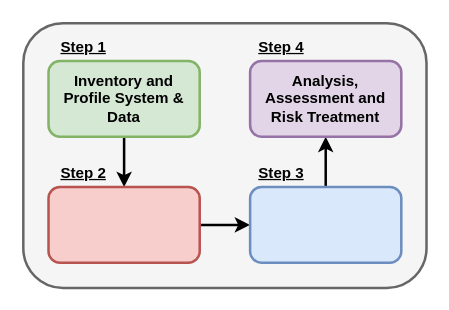
This 449x310 diagram has some shape labels left out. Each missing label, with the box of its shape:
Identify Attack Vectors: (47, 185, 200, 263)
Select Security Controls: (248, 185, 402, 263)
